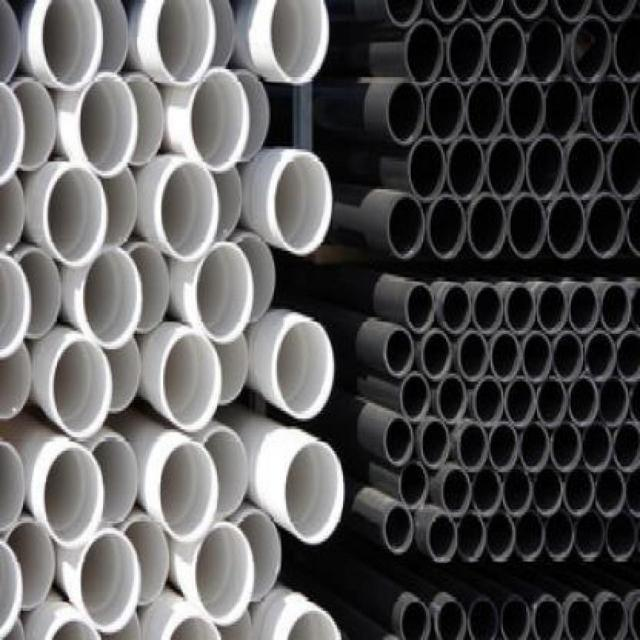pipe: (284, 441, 346, 545), (272, 318, 335, 420), (50, 337, 113, 439), (189, 67, 249, 172), (44, 166, 107, 266), (194, 524, 255, 626), (43, 447, 105, 547), (272, 153, 332, 256), (79, 74, 138, 178), (159, 442, 219, 544), (158, 161, 219, 261), (84, 247, 143, 349), (161, 333, 221, 433), (81, 532, 141, 632), (41, 0, 104, 91), (197, 244, 252, 343), (155, 0, 215, 86), (269, 0, 329, 84), (5, 521, 55, 611), (93, 434, 140, 525), (12, 78, 57, 172), (202, 429, 249, 518), (235, 512, 282, 600), (123, 518, 170, 606), (18, 250, 63, 340), (81, 0, 134, 76), (130, 243, 169, 334), (125, 74, 164, 165), (236, 235, 275, 323), (0, 254, 32, 359), (0, 339, 36, 427), (237, 69, 270, 164), (208, 333, 249, 404), (572, 15, 612, 83), (586, 193, 626, 258), (107, 337, 141, 413), (0, 541, 26, 640), (488, 18, 526, 85), (447, 19, 485, 86), (526, 19, 565, 84), (590, 75, 629, 140), (565, 135, 604, 200), (526, 136, 565, 201), (548, 194, 587, 259), (0, 80, 24, 185), (203, 0, 238, 72), (405, 20, 443, 85), (507, 76, 545, 141), (427, 78, 465, 143), (508, 193, 546, 258), (469, 194, 507, 259), (387, 195, 425, 260), (545, 76, 582, 142), (408, 137, 446, 200), (429, 196, 467, 259), (213, 164, 242, 245), (488, 136, 525, 199), (449, 136, 486, 199), (467, 79, 505, 140), (387, 83, 425, 144), (0, 174, 28, 254), (0, 440, 24, 533), (608, 133, 639, 201), (285, 606, 345, 640), (0, 0, 23, 84), (162, 612, 225, 640), (614, 15, 639, 83), (383, 327, 415, 377), (404, 282, 435, 333), (600, 282, 631, 333), (506, 376, 537, 427), (569, 376, 600, 427), (383, 416, 414, 467), (456, 511, 487, 562), (399, 372, 431, 421), (586, 331, 617, 381), (485, 511, 515, 562), (569, 284, 600, 333), (505, 286, 536, 335), (457, 423, 488, 472), (519, 423, 550, 472), (563, 467, 594, 516), (441, 467, 472, 516), (595, 469, 626, 518), (383, 504, 414, 553), (426, 514, 457, 563), (611, 421, 639, 475), (421, 331, 451, 381), (491, 331, 521, 381), (551, 422, 581, 472), (473, 378, 504, 426), (537, 379, 568, 427), (598, 379, 629, 427), (583, 424, 614, 472), (398, 461, 429, 509), (606, 513, 637, 561), (474, 285, 504, 334), (441, 285, 471, 334), (503, 467, 533, 516), (537, 285, 567, 333), (553, 332, 583, 380), (523, 333, 553, 381), (437, 376, 467, 424), (534, 469, 564, 517), (544, 512, 574, 560), (514, 512, 544, 560), (420, 420, 449, 469), (473, 468, 502, 517), (565, 595, 598, 638), (533, 595, 566, 638), (574, 513, 604, 560), (596, 595, 627, 640), (459, 332, 488, 380), (488, 424, 516, 472), (500, 596, 531, 639), (436, 598, 468, 639), (468, 597, 499, 639), (400, 598, 431, 639), (47, 618, 101, 640), (616, 331, 639, 382), (381, 0, 426, 26), (552, 0, 597, 21), (593, 0, 640, 20), (505, 0, 552, 19), (428, 0, 470, 21), (463, 0, 505, 21)
